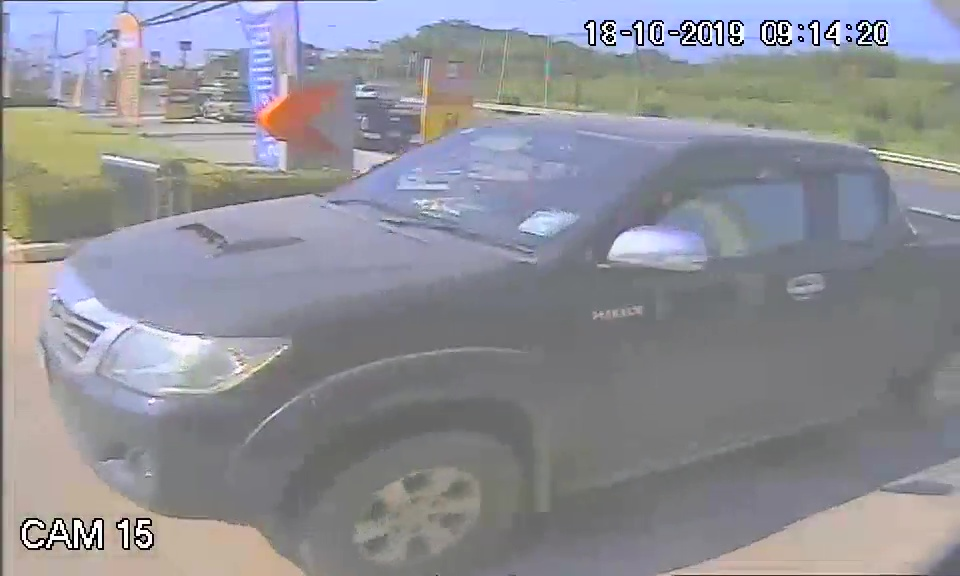pickup: (35, 107, 921, 520)
